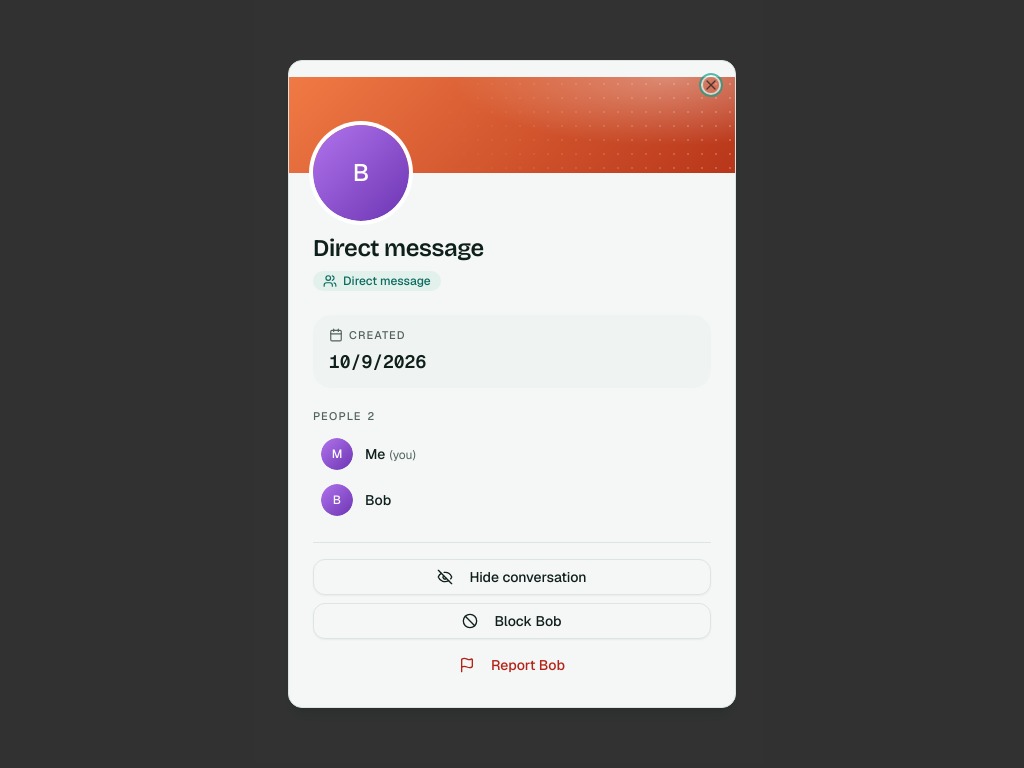
RoomPanel safety › block_directMessage_callsBlockAndFlagsTheDm
What coordinates should you click on to do the following:
click the button "Block Bob"
I would click on:
 (512, 621)
Its box is [313,603,711,639].
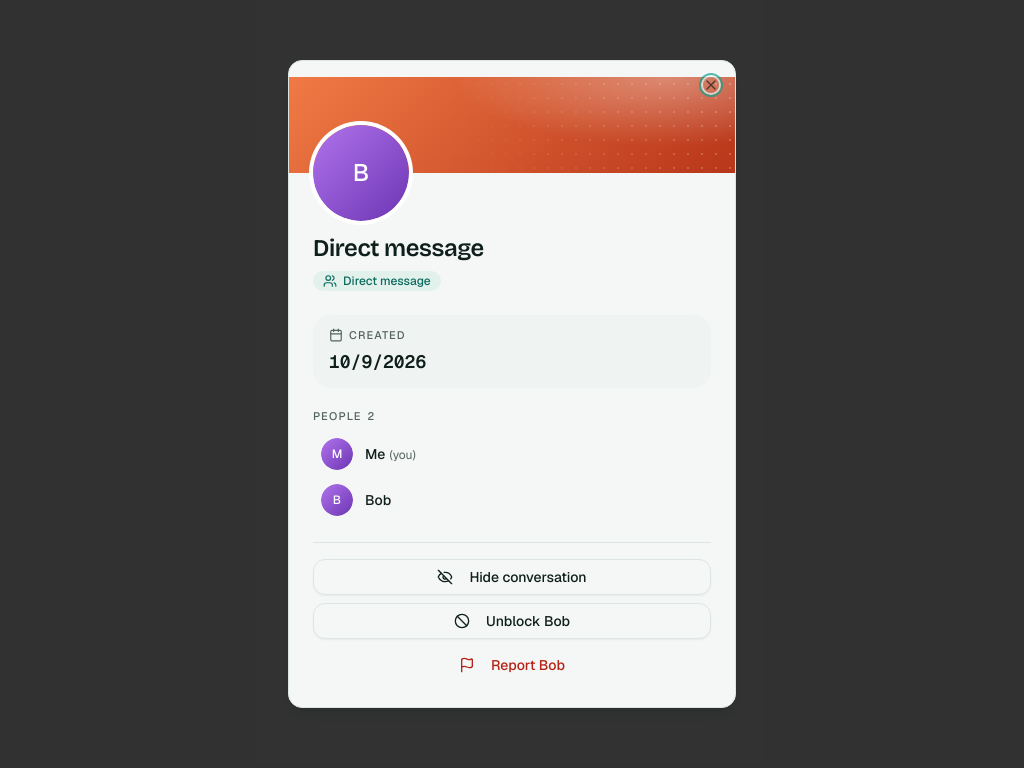
Expected: the button "Unblock Bob" is shown, [313,603,711,639]
